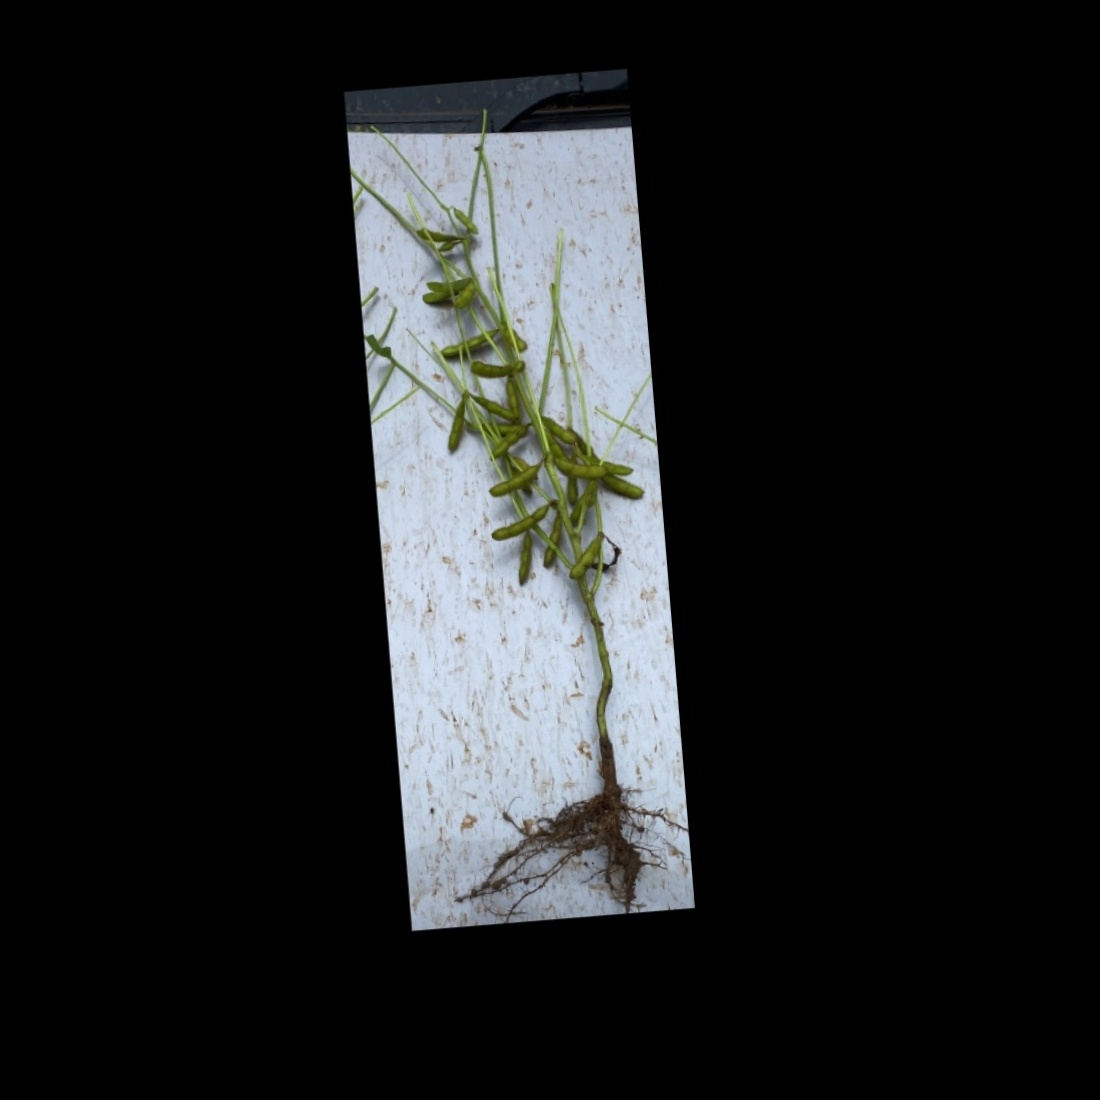pod: (488, 503, 549, 543), (565, 537, 607, 583), (438, 324, 498, 357), (488, 466, 540, 500), (466, 389, 513, 424), (511, 533, 536, 591), (549, 455, 604, 482), (539, 518, 564, 572), (442, 404, 468, 452), (465, 355, 512, 382), (539, 414, 575, 445), (604, 472, 644, 499), (452, 203, 480, 237), (542, 427, 566, 463), (505, 377, 522, 420), (563, 476, 582, 505)
soy: (381, 137, 678, 906)
